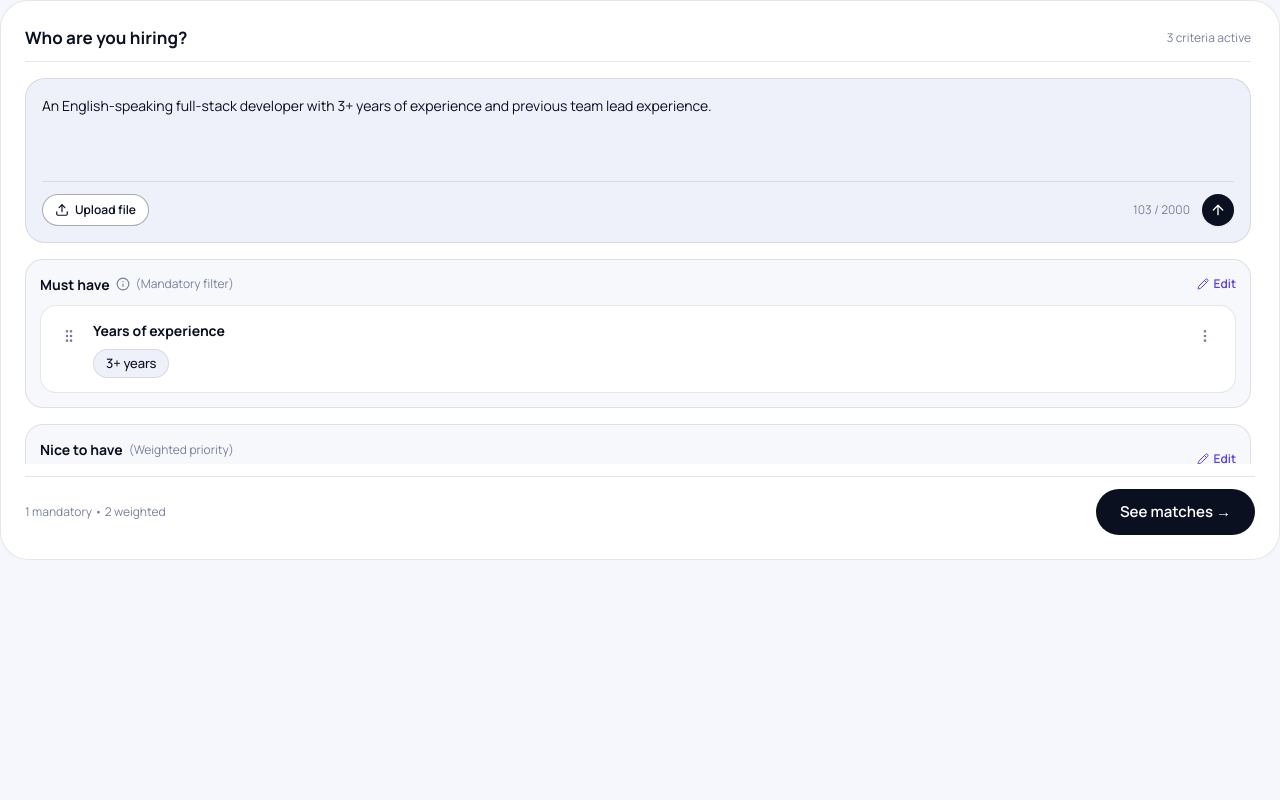
Test: CriteriaBuilder Component & Zero Network Requests › switches between criteria builder and results view without network requests
This screenshot has width=1280, height=800.
Step 1. Click the button "See matches →" → (1176, 512), box [1096,489,1255,535]
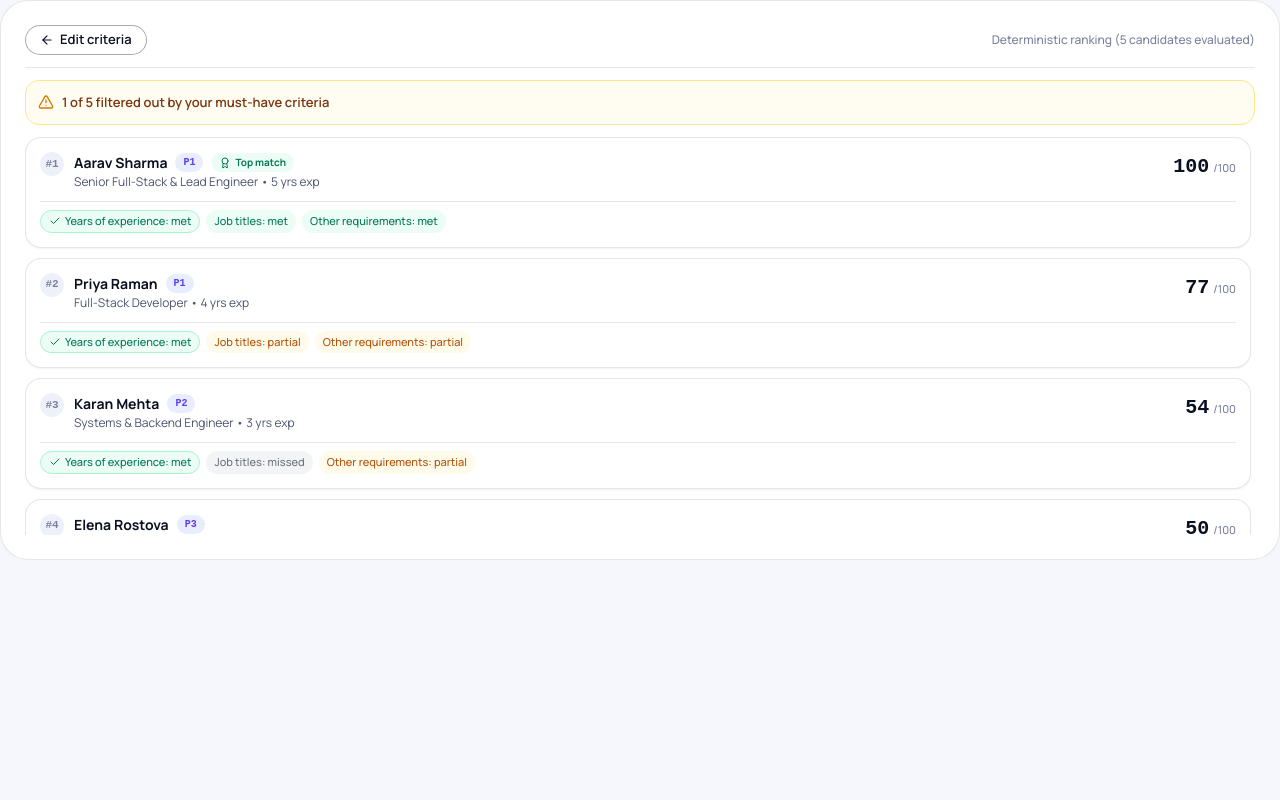
Now the text "Edit criteria" is shown, box [60,30,132,50]
Now the text "1 of 5 filtered out by your must-have criteria" is shown, box [62,92,330,112]
Now the text "Aarav Sharma" is shown, box [74,152,168,173]
// Click back to edit
Step 2. Click the button "Edit criteria" → (86, 40), box [25,25,147,54]
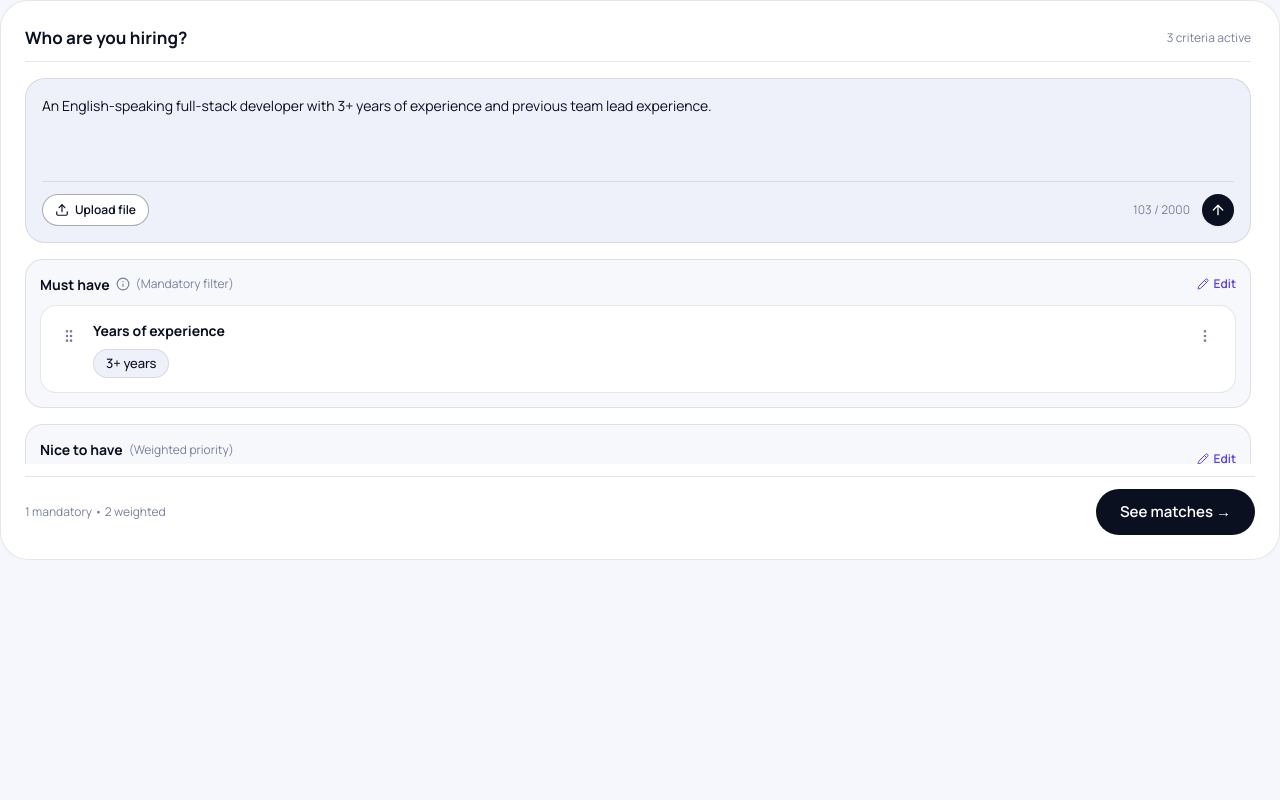
Now the heading "Who are you hiring?" is shown, box [25,25,187,50]
